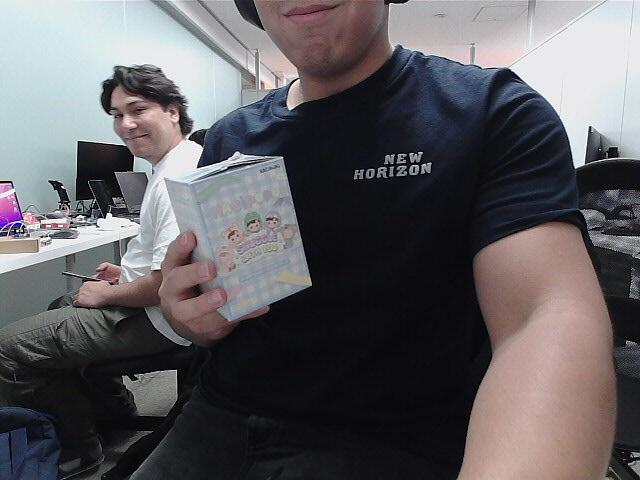Blind_box: (168, 152, 310, 317)
